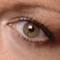eye: (24, 22, 40, 37)
